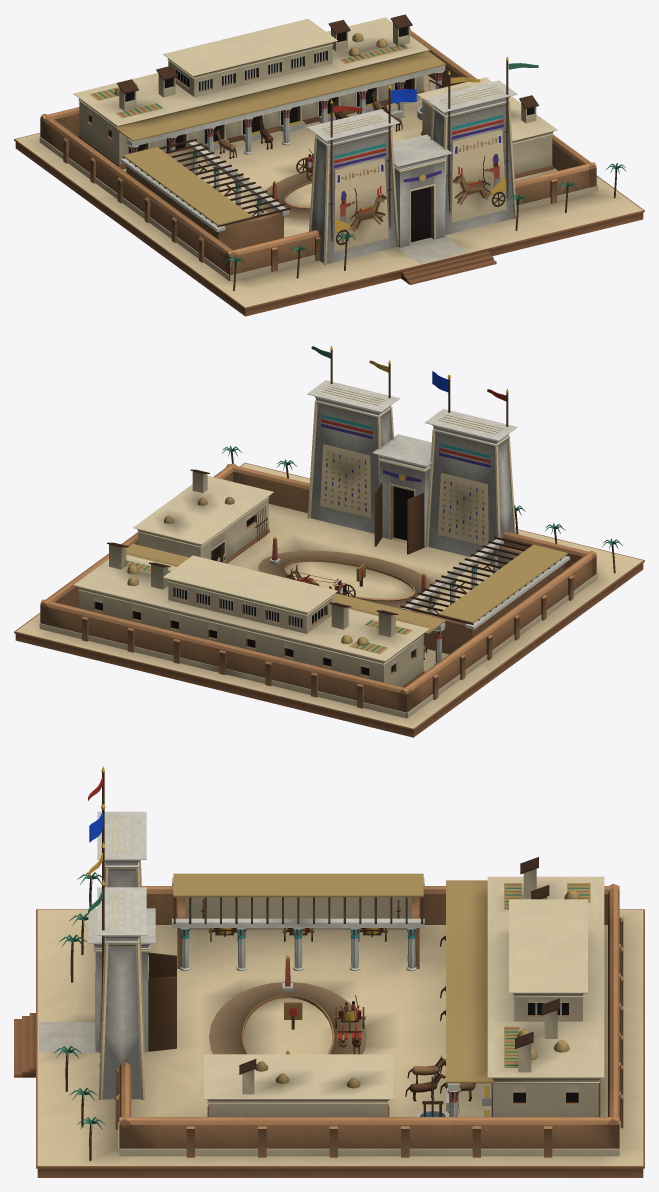
The model's file is lm_arabaciahiri.glb.
3 views of the same model, one above another, from view 1: azimuth 30°, elevation 25°; view 2: azimuth 150°, elevation 25°; view 3: azimuth 270°, elevation 25° (orthographic). The views are drawn at different scales.
Parts seen in each view (by area): view 1: lm_arabaciahiri; view 2: lm_arabaciahiri; view 3: lm_arabaciahiri.
Part boxes in pixels (x1,y1,x2,y2): lm_arabaciahiri: (14, 14, 644, 316); lm_arabaciahiri: (14, 346, 644, 737); lm_arabaciahiri: (14, 766, 644, 1177).
Bounding box in the file's own units: 2.32 × 0.9521 × 2.4.
Materials: 1 (1 with a texture image).
